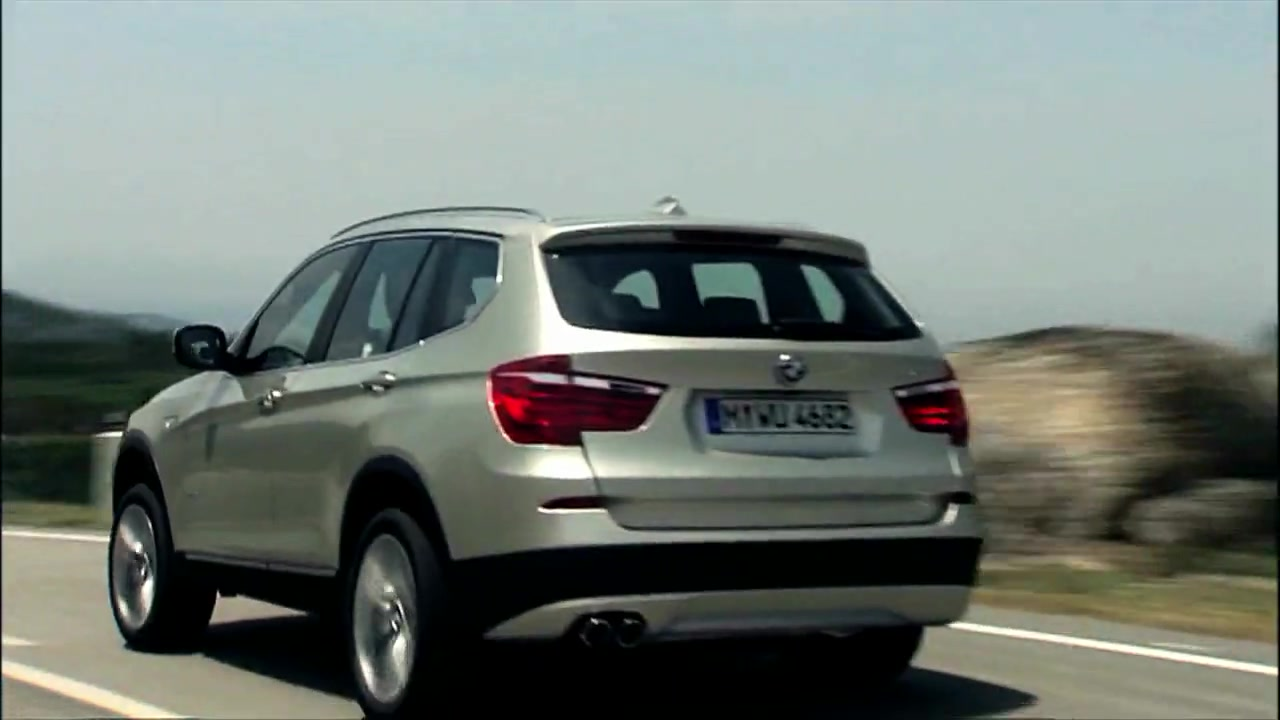car: (99, 204, 992, 717)
